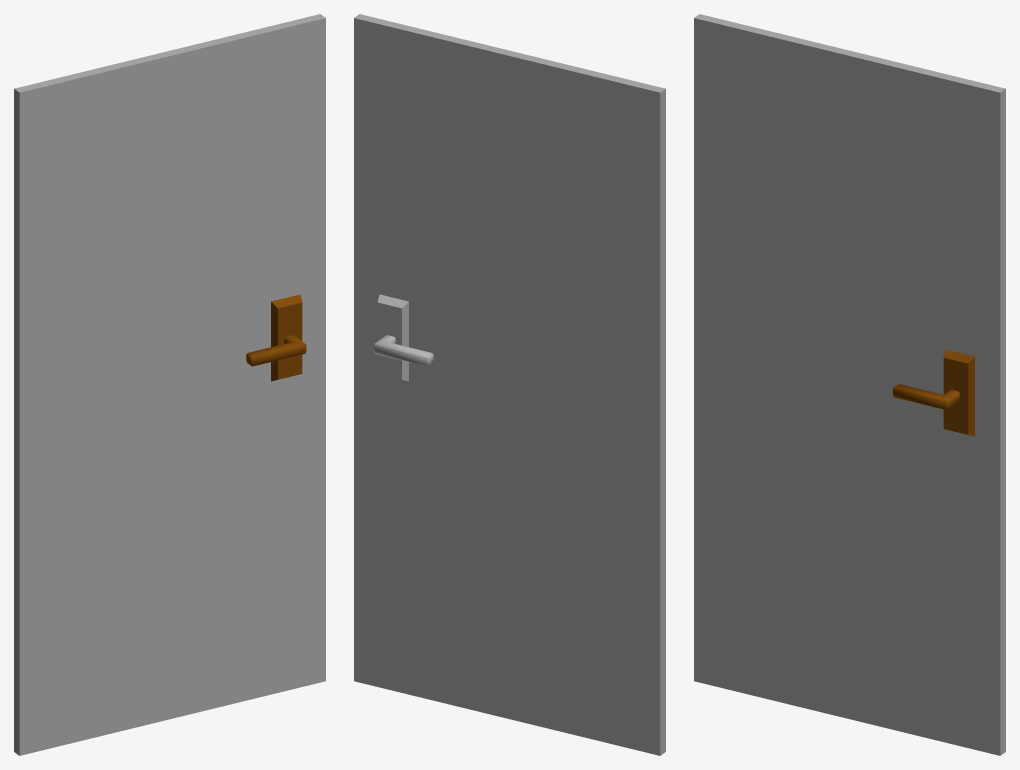
The model's file is mesh_door.fbx.
3 views of the same model, side by side, from view 1: azimuth 30°, elevation 25°; view 2: azimuth 150°, elevation 25°; view 3: azimuth 330°, elevation 25° (orthographic).
Visible parts, largest first — view 1: mesh_door; view 2: mesh_door; view 3: mesh_door.
Part boxes in pixels (x1,y1,x2,y2): mesh_door: (14, 14, 325, 755); mesh_door: (354, 14, 665, 755); mesh_door: (694, 14, 1005, 755).
Size of the model in its own units: 1 by 2.07 by 0.2238.
